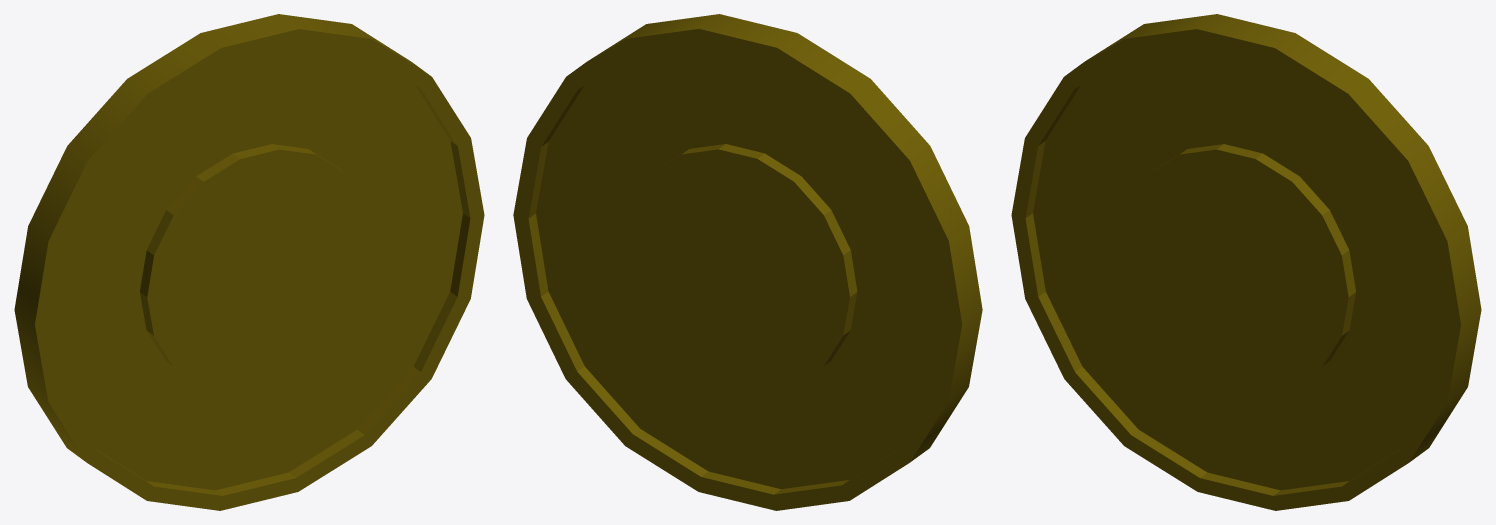
Rendered from Coin_collectable.FBX.
The picture shows the model from 3 angles, left to right: view 1: azimuth 30°, elevation 25°; view 2: azimuth 150°, elevation 25°; view 3: azimuth 330°, elevation 25°; orthographic projection.
Parts seen in each view (by area): view 1: Cylinder001; view 2: Cylinder001; view 3: Cylinder001.
Part boxes in pixels (x1,y1,x2,y2): Cylinder001: (14, 14, 484, 510); Cylinder001: (513, 14, 982, 510); Cylinder001: (1011, 14, 1481, 510).
Bounding box in the file's own units: 93.21 × 91.82 × 7.58.
